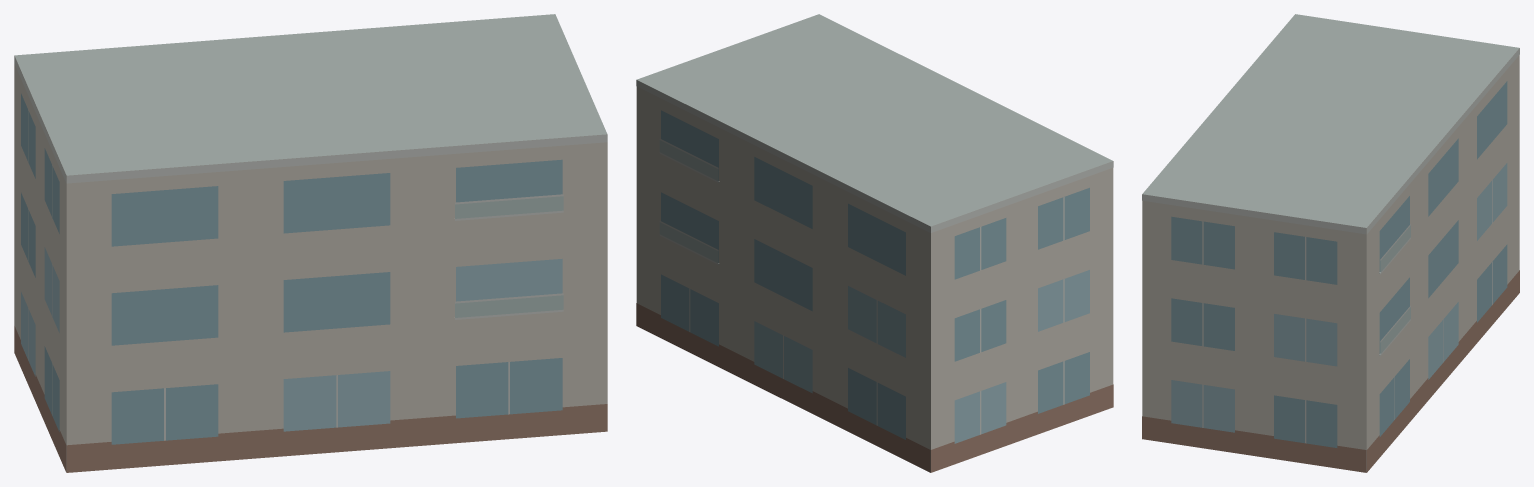
File: survey-upis-32820650.glb
3 renders of one model, left to right at view 1: azimuth 30°, elevation 25°; view 2: azimuth 150°, elevation 25°; view 3: azimuth 270°, elevation 25°, orthographic. The views are drawn at different scales.
Parts seen in each view (by area): view 1: survey-upis-32820650.tmp; view 2: survey-upis-32820650.tmp; view 3: survey-upis-32820650.tmp.
Part boxes in pixels (box(x1,y1,x2,y2)): survey-upis-32820650.tmp: box(14, 14, 607, 472); survey-upis-32820650.tmp: box(636, 14, 1113, 472); survey-upis-32820650.tmp: box(1142, 14, 1519, 472).
Size of the model in its own units: 17.16 by 9.15 by 12.8.
